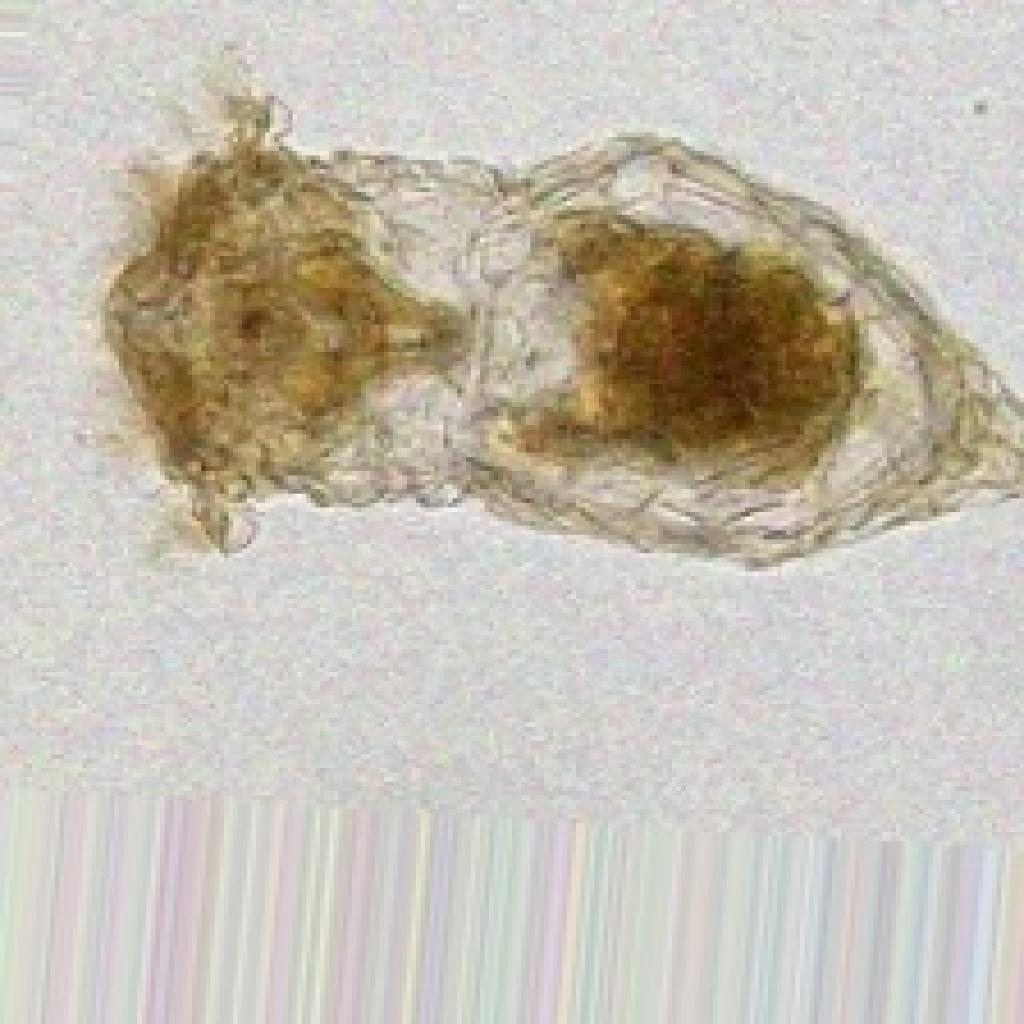Rotifer: (96, 82, 1019, 567)
